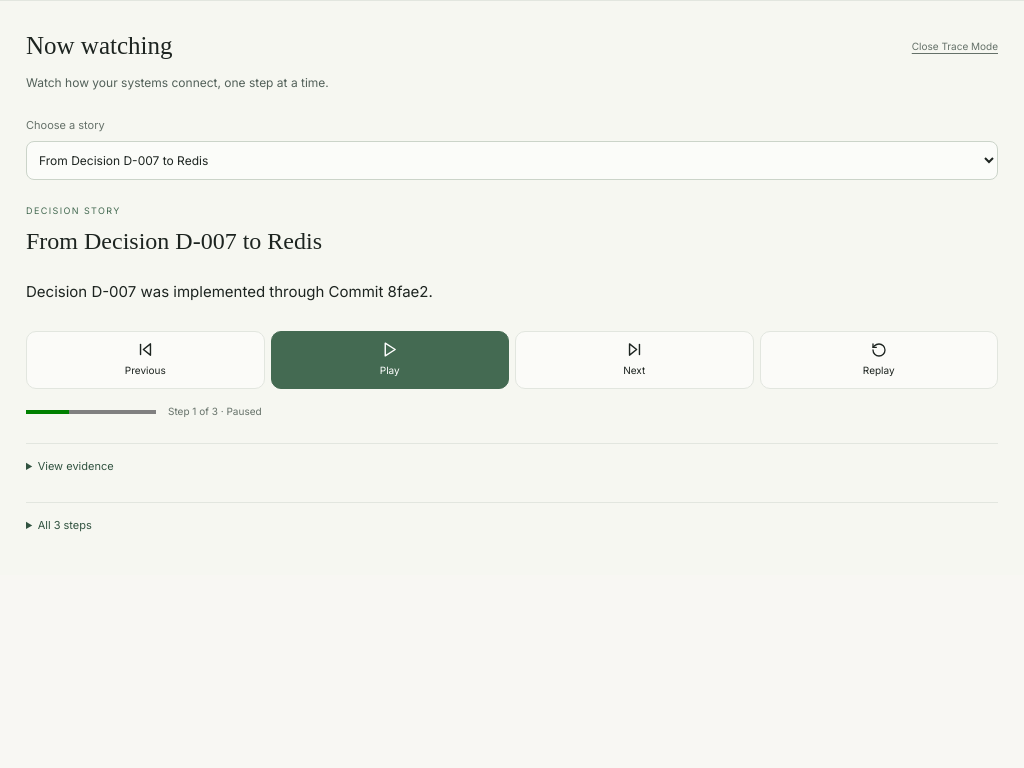
Test: local deterministic Trace Mode controls › supports next, previous and replay, with manual actions pausing the timer
Check: the button with aria-label "Previous step" is disabled, box [26,331,264,389]
Click the button with aria-label "Next step" at (634, 360), box [515,331,754,389]
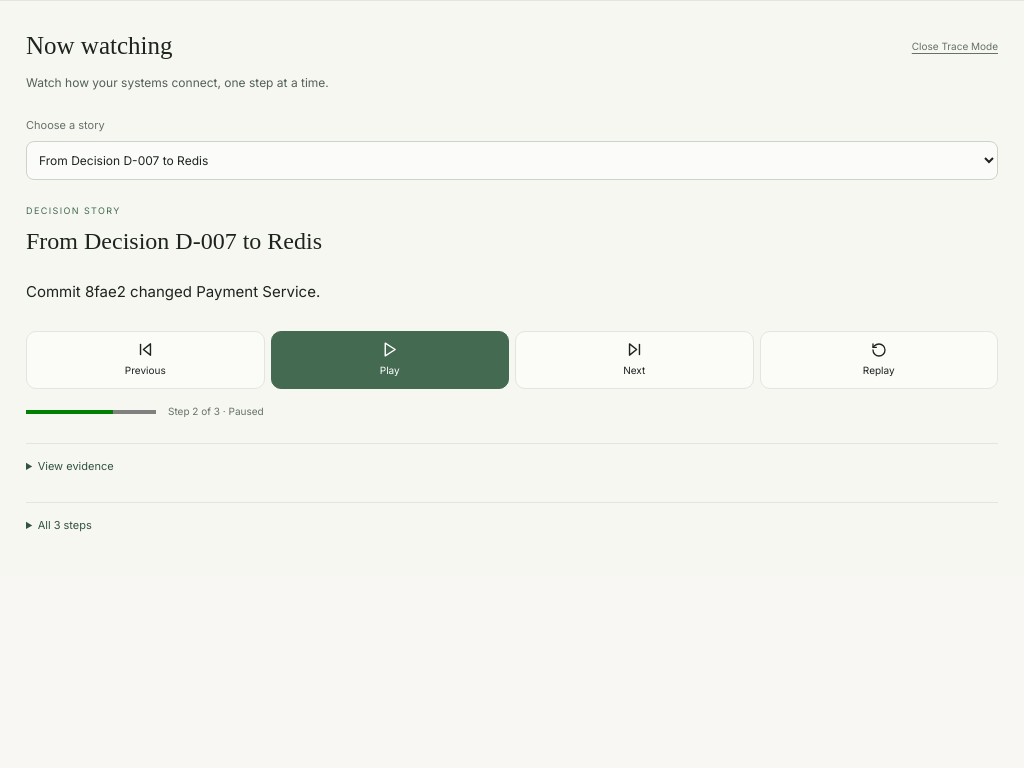
Check: the text "Step 2 of 3 · Paused" is shown, box [168,404,264,419]
Click the button "Play" at (390, 360), box [270,331,509,389]
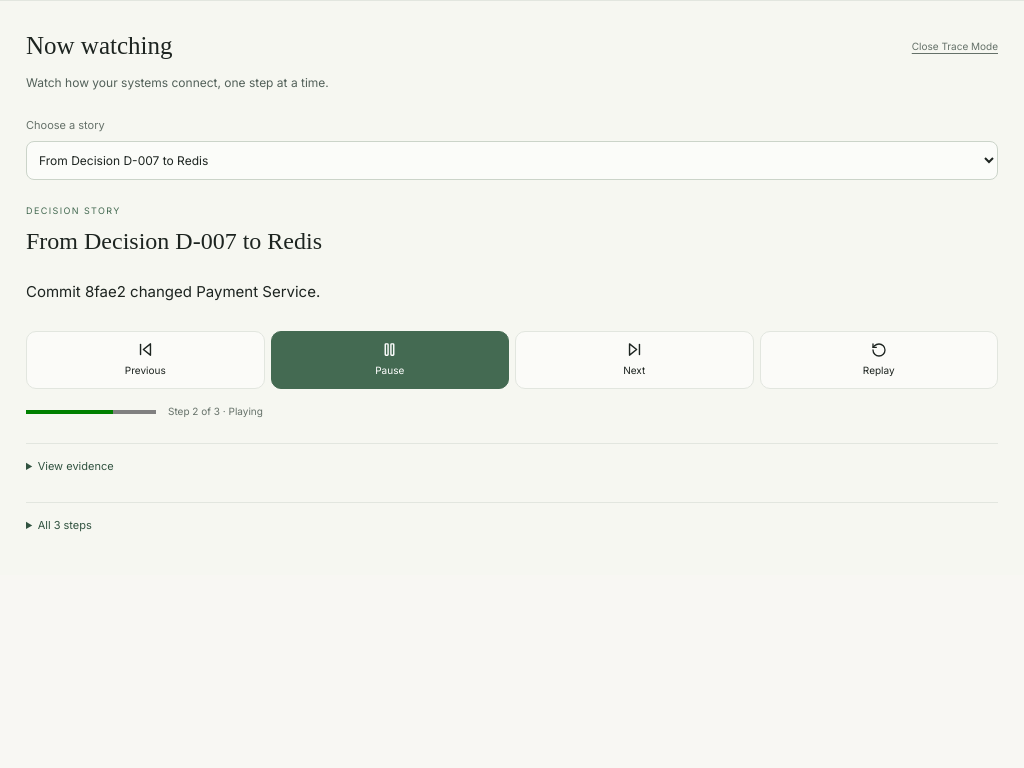
Click the button with aria-label "Previous step" at (145, 360), box [26,331,264,389]
Wait 7000 ms
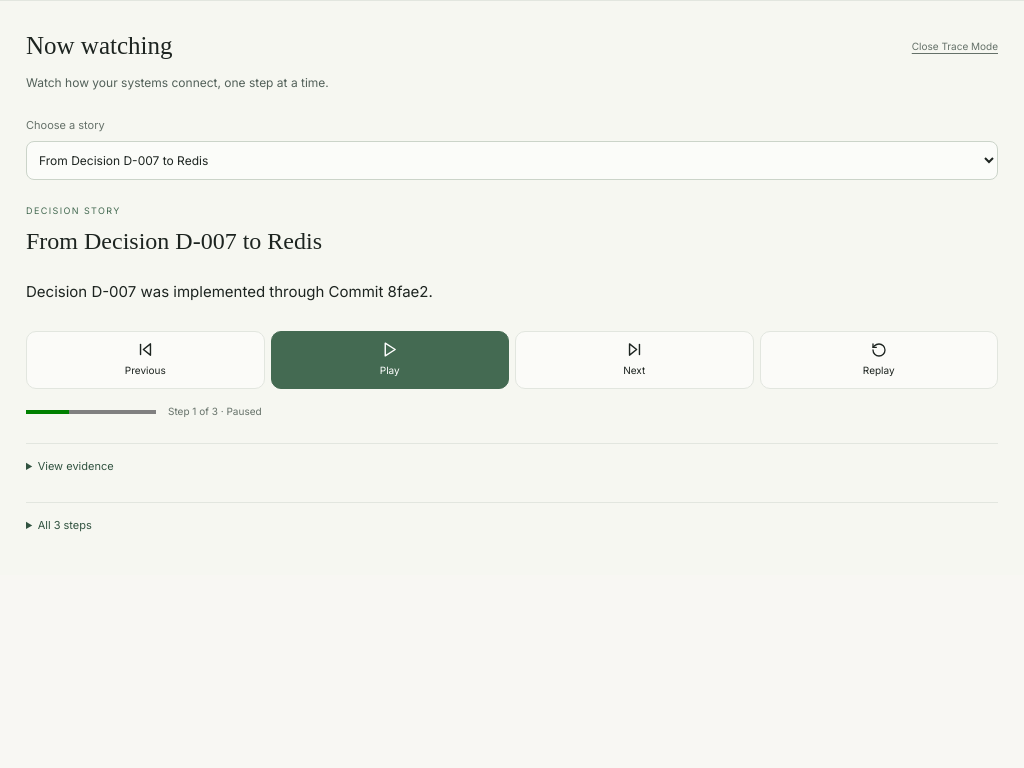
Check: the text "Step 1 of 3 · Paused" is shown, box [168,404,262,419]
Click the button with aria-label "Next step" at (634, 360), box [515,331,754,389]
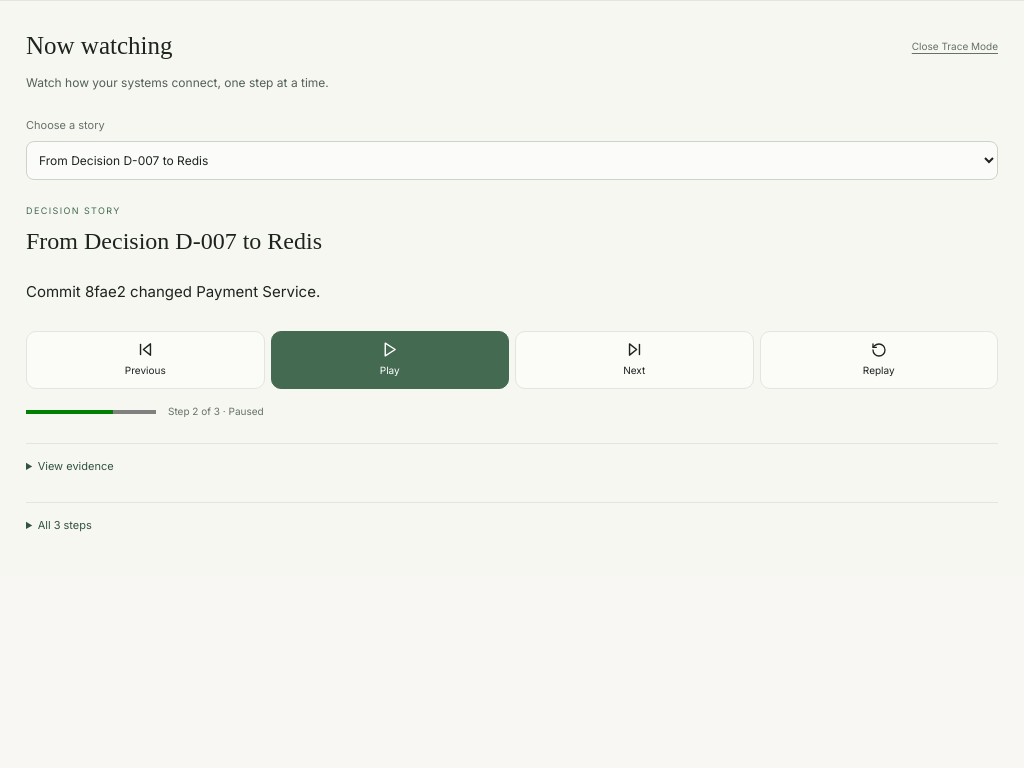
Click the button with aria-label "Next step" at (634, 360), box [515,331,754,389]
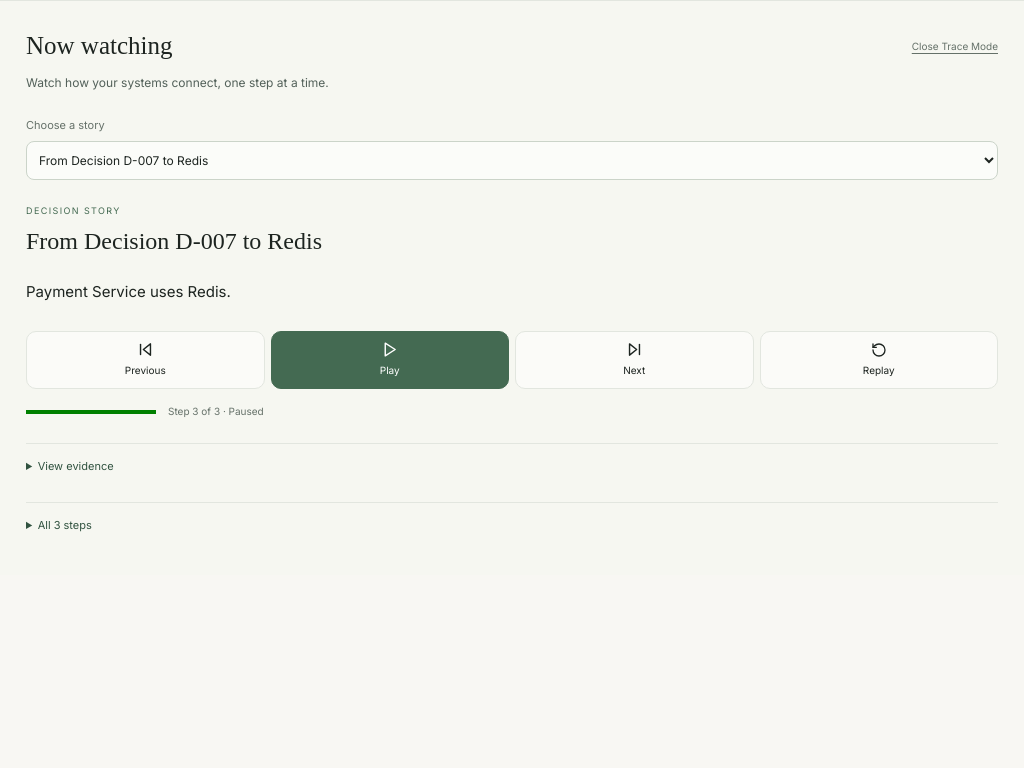
Click the button "Replay" at (879, 360), box [760,331,998,389]
Wait 2200 ms
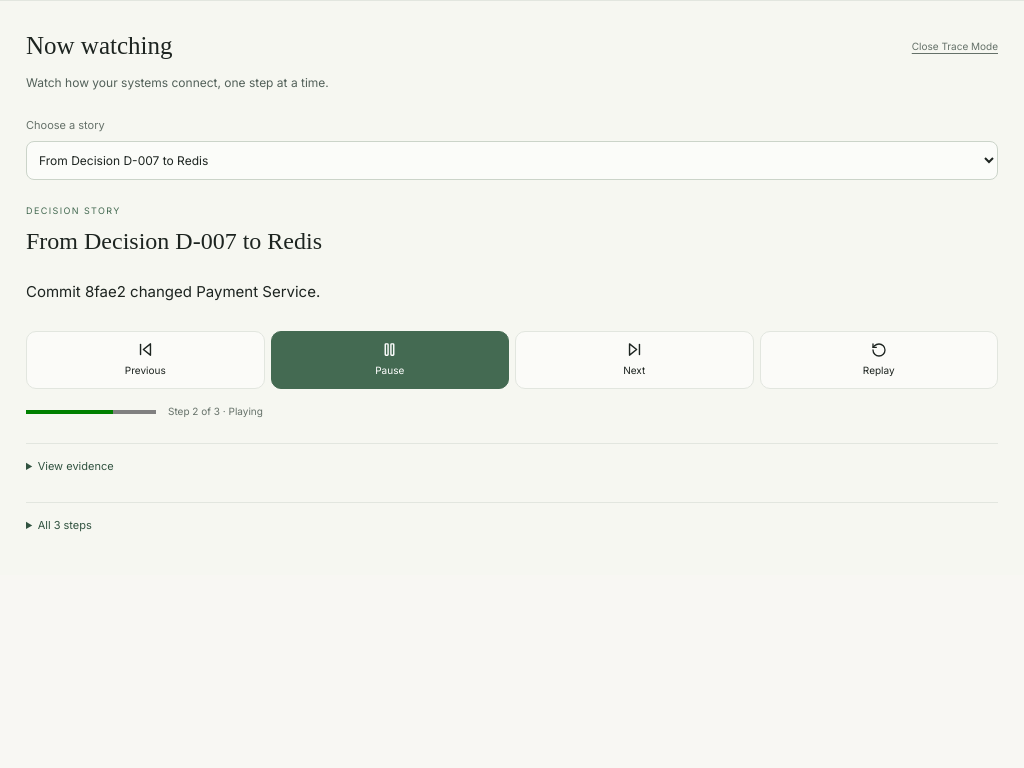
Check: the text "Step 2 of 3 · Playing" is shown, box [168,404,263,419]
